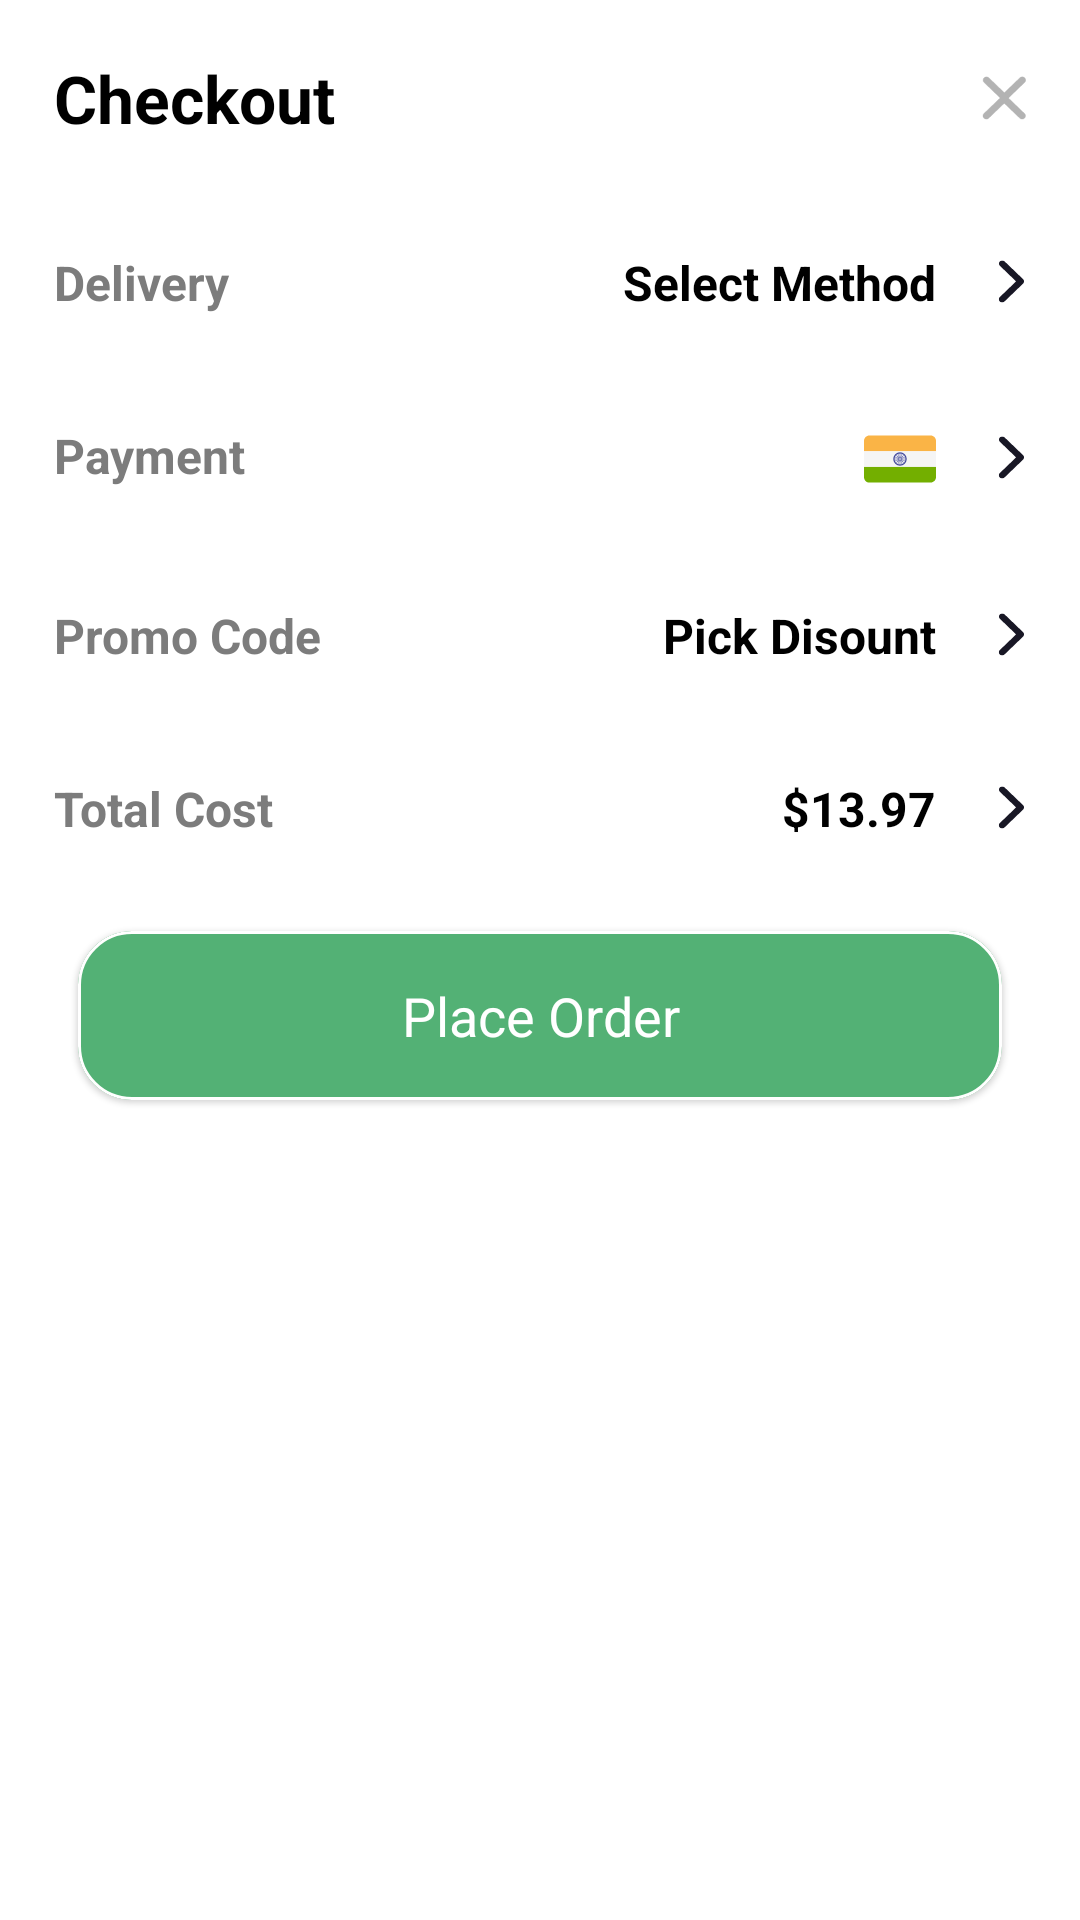

Named icons in this screenshot (1080px x 1920px) and their bounding boxes, BBox(x1, y1, x2, y2):
arrow: BBox(999, 260, 1024, 303), BBox(999, 436, 1024, 479), BBox(999, 613, 1024, 656), BBox(999, 786, 1024, 829)
cross: BBox(983, 76, 1026, 119)
india: BBox(864, 435, 936, 483)
